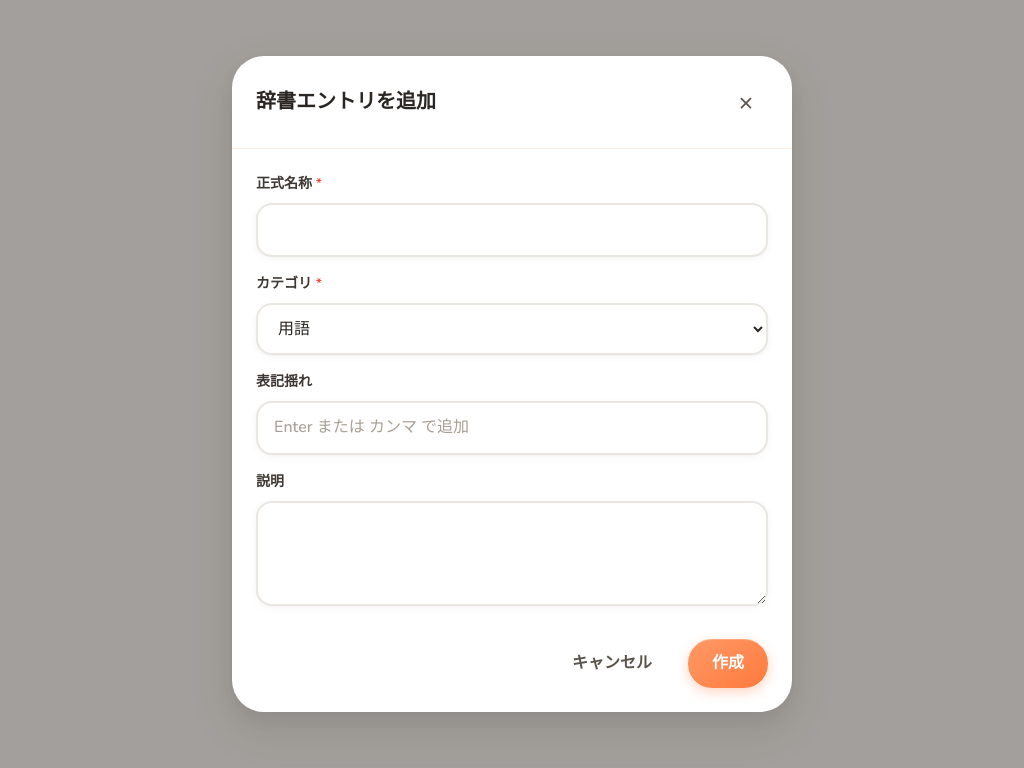
AgentDictionaryForm › Alias input › adds alias when Enter key is pressed
Type "newAlias" into the field with placeholder "Enter または カンマ で追加" at (512, 428), box [256,401,768,455]
Then press Enter
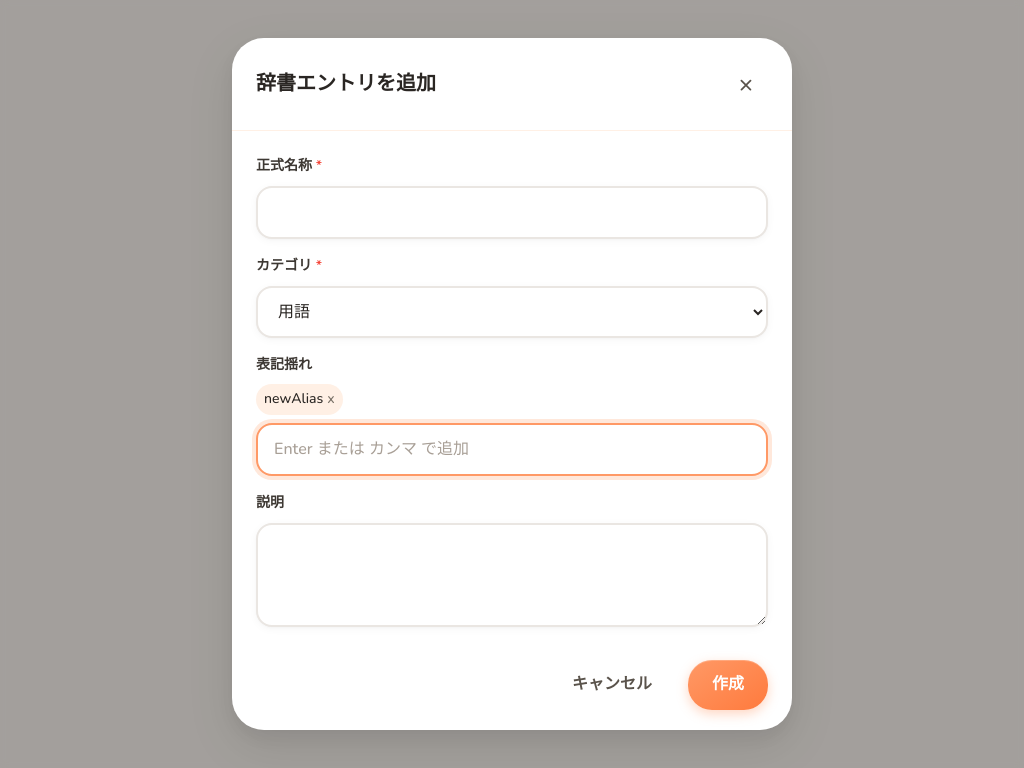
Result: the text "newAlias" is shown at [264,389,323,408]
